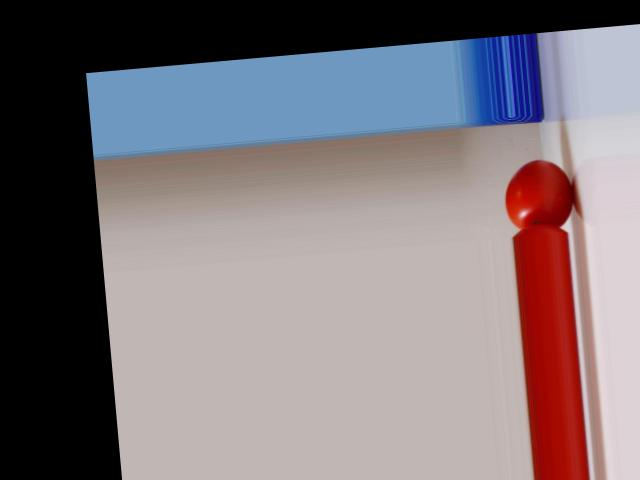tomato: (502, 157, 575, 230)
